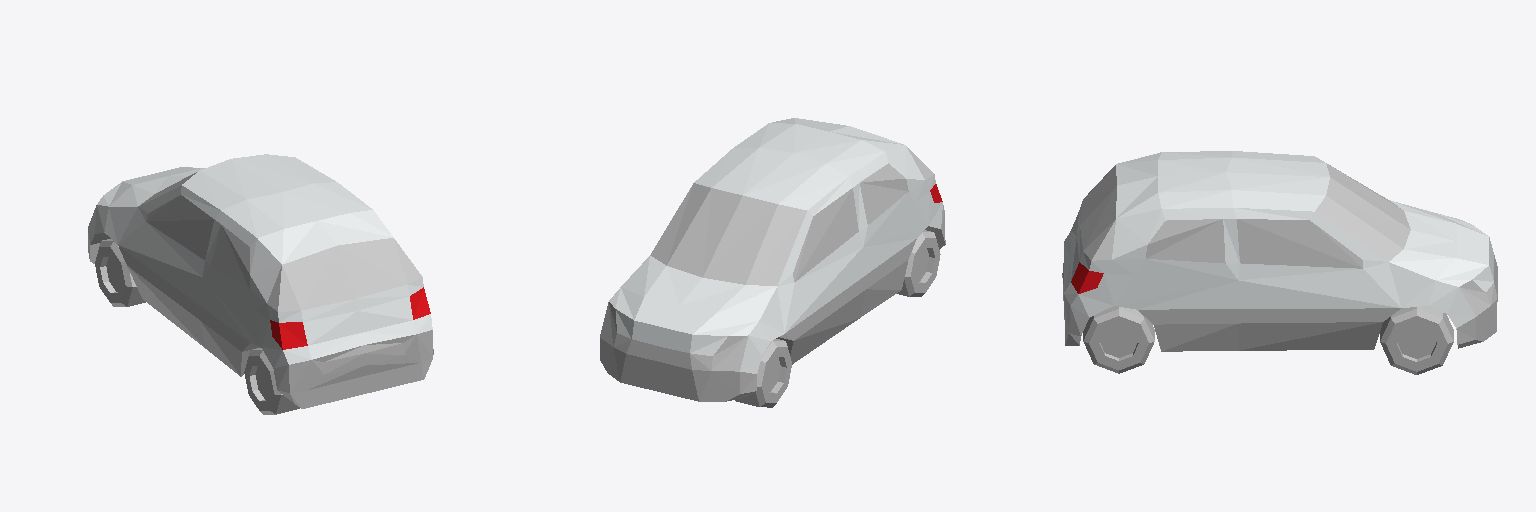
3 views of the same model, side by side, from view 1: azimuth 30°, elevation 25°; view 2: azimuth 150°, elevation 25°; view 3: azimuth 270°, elevation 25° (orthographic).
Parts seen in each view (by area): view 1: Car_Carrosserie, Car_Base; view 2: Car_Carrosserie, Car_Base; view 3: Car_Carrosserie, Car_Base.
Part boxes in pixels (left/top/right/bottom): Car_Carrosserie: left=88, top=154, right=432, bottom=368; Car_Base: left=88, top=172, right=433, bottom=414; Car_Carrosserie: left=609, top=118, right=944, bottom=373; Car_Base: left=600, top=147, right=945, bottom=407; Car_Carrosserie: left=1064, top=151, right=1493, bottom=328; Car_Base: left=1062, top=163, right=1497, bottom=374.
Bounding box in the file's own units: 1.94 × 1.98 × 4.67.
Materials: 3 (2 with a texture image).